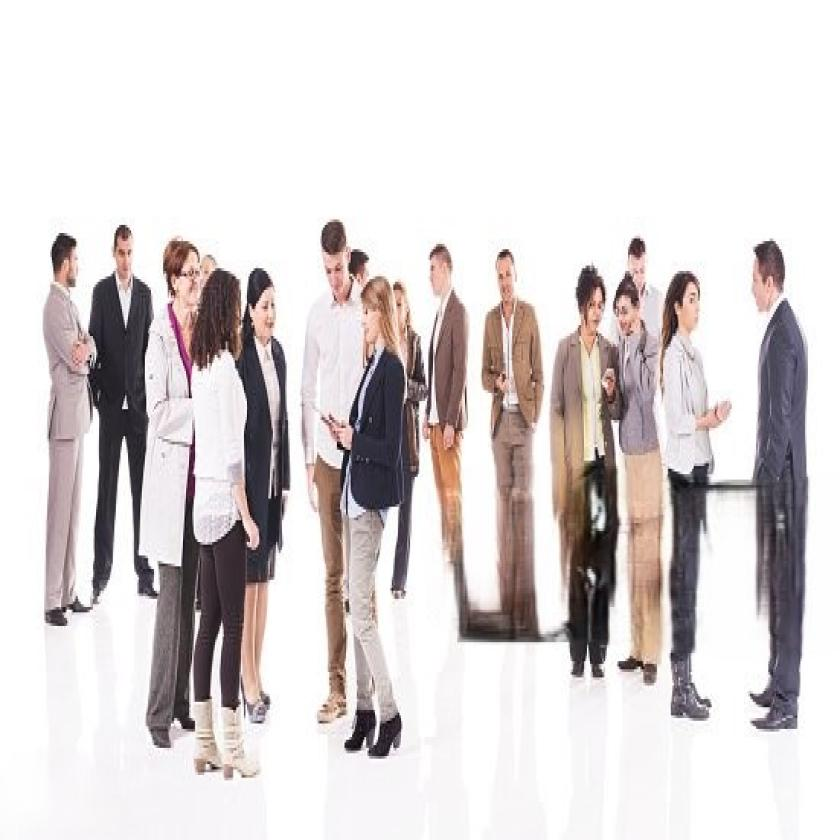Sin_casco: (158, 232, 203, 328), (750, 224, 794, 318), (315, 212, 356, 310), (665, 257, 702, 338), (358, 273, 394, 356), (43, 215, 83, 289), (574, 252, 609, 334), (248, 268, 285, 344), (429, 235, 466, 304), (104, 217, 139, 277), (624, 224, 652, 296), (489, 241, 520, 302), (614, 273, 640, 340)
